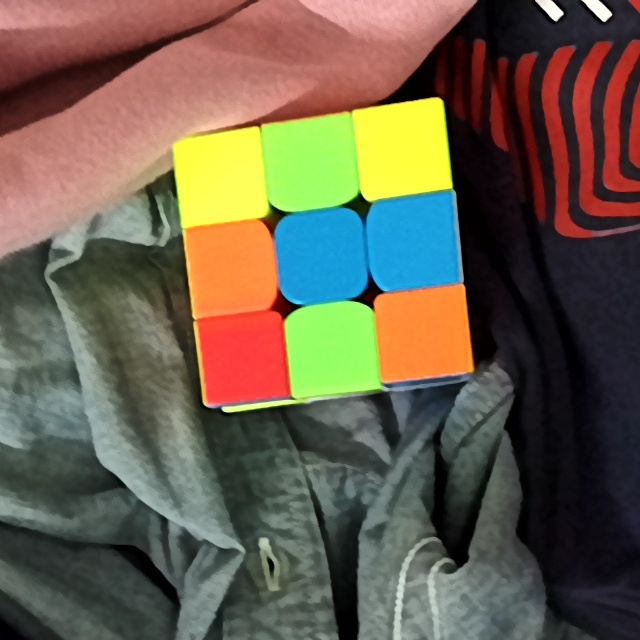tile: (293, 316, 372, 386), (193, 231, 267, 305), (377, 208, 455, 278), (361, 117, 446, 181), (184, 144, 258, 216), (383, 300, 460, 368), (273, 128, 349, 194), (286, 223, 358, 292), (206, 325, 278, 391)
